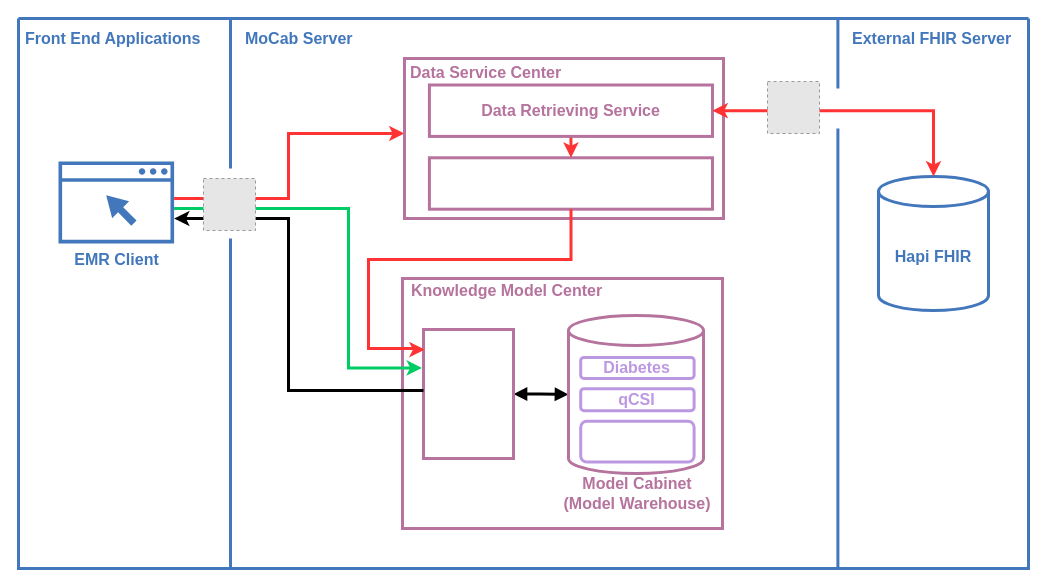
Some shapes in this 1047 by 588 pixel diagram are drawn without their labels. Grey dashed boxes stand in for pictures. The shapes that lost their labels are listed below. From the top down, each one's centre as x and y in pixels, then its label:
(570,183): Data Preprocessing Service
(468,394): Prediction Adapter
(637,441): Other prediction models
